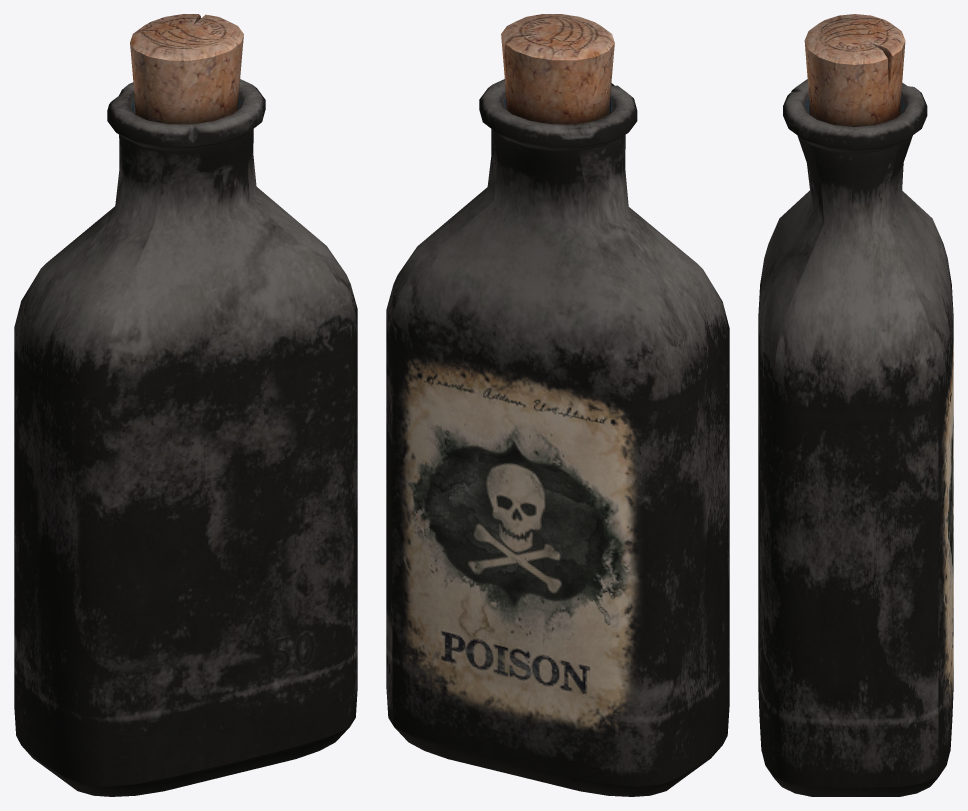
Rendered from poison2.dae.
3 renders of one model, left to right at view 1: azimuth 30°, elevation 25°; view 2: azimuth 150°, elevation 25°; view 3: azimuth 270°, elevation 25°, orthographic.
Parts seen in each view (by area): view 1: Bottle_LP_meshId1_name, Cork_LP_meshId0_name; view 2: Bottle_LP_meshId1_name, Cork_LP_meshId0_name; view 3: Bottle_LP_meshId1_name, Cork_LP_meshId0_name.
Boxes of the visible parts, box(x1,y1,x2,y2) form: Bottle_LP_meshId1_name: box(14, 79, 357, 796); Cork_LP_meshId0_name: box(130, 14, 243, 124); Bottle_LP_meshId1_name: box(386, 79, 729, 796); Cork_LP_meshId0_name: box(501, 14, 614, 124); Bottle_LP_meshId1_name: box(758, 79, 953, 796); Cork_LP_meshId0_name: box(804, 14, 905, 126).
Size of the model in its own units: 12.73 by 7.43 by 29.43.
3 materials, 2 textured.
